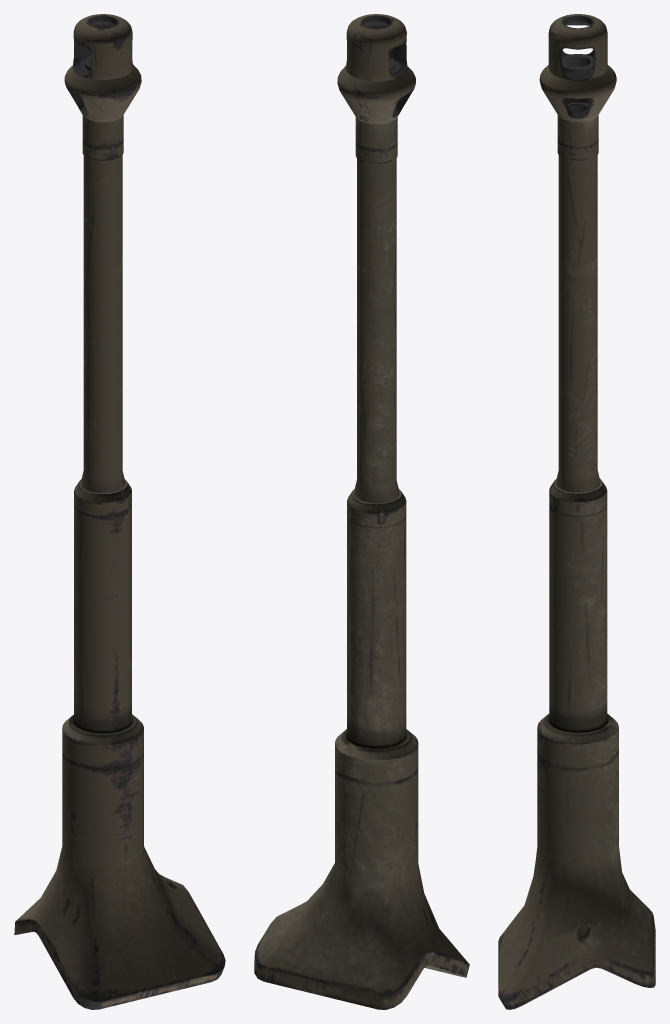
File: Gun_01.glb
The picture shows the model from 3 angles, left to right: view 1: azimuth 30°, elevation 25°; view 2: azimuth 150°, elevation 25°; view 3: azimuth 270°, elevation 25°; orthographic projection. The views are drawn at different scales.
Parts seen in each view (by area): view 1: set_0_group_0; view 2: set_0_group_0; view 3: set_0_group_0.
Part boxes in pixels (x1,y1,x2,y2): set_0_group_0: (14, 14, 225, 1009); set_0_group_0: (254, 14, 469, 1009); set_0_group_0: (498, 14, 655, 1009).
Bounding box in the file's own units: 0.685 × 4.23 × 0.6357.
Materials: 1 (1 with a texture image).
